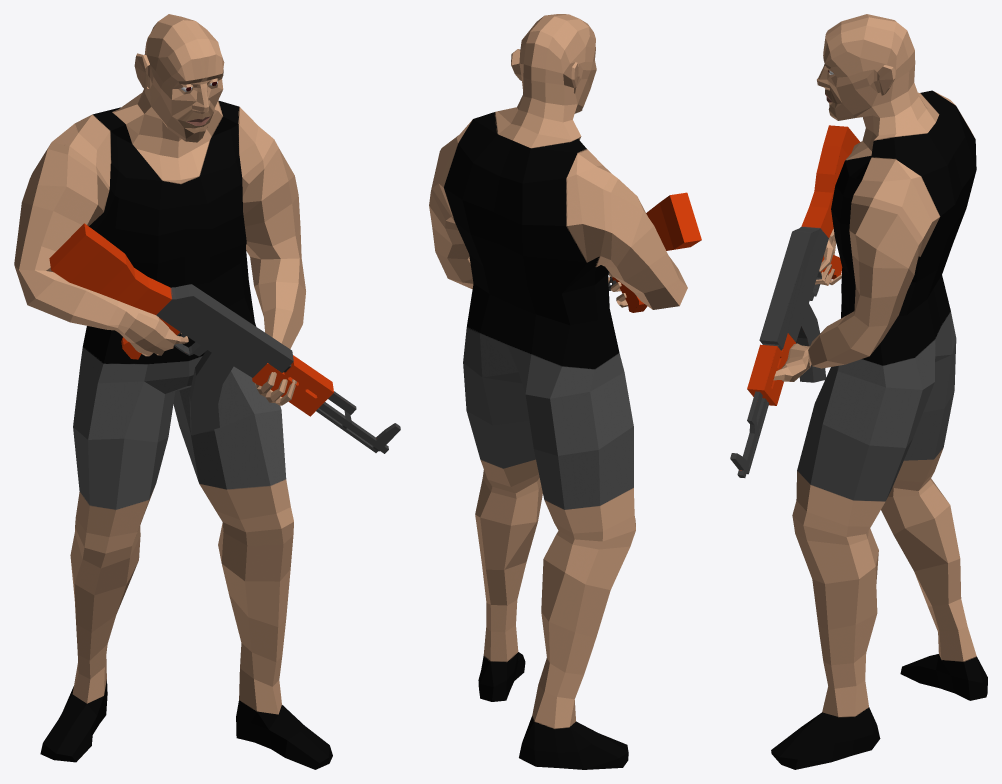
Rendered from PlayerIdle(204).obj.
The picture shows the model from 3 angles, left to right: view 1: azimuth 30°, elevation 25°; view 2: azimuth 150°, elevation 25°; view 3: azimuth 270°, elevation 25°; orthographic projection. The views are drawn at different scales.
Visible parts, largest first — view 1: Plane002, Object001; view 2: Plane002, Object001; view 3: Plane002, Object001.
Part boxes in pixels (box(x1,y1,x2,y2)): Plane002: box(14, 14, 332, 769); Object001: box(49, 223, 400, 453); Plane002: box(429, 14, 687, 769); Object001: box(608, 192, 701, 312); Plane002: box(771, 14, 987, 769); Object001: box(730, 125, 859, 477).
Bounding box in the file's own units: 754 × 1797 × 599.
